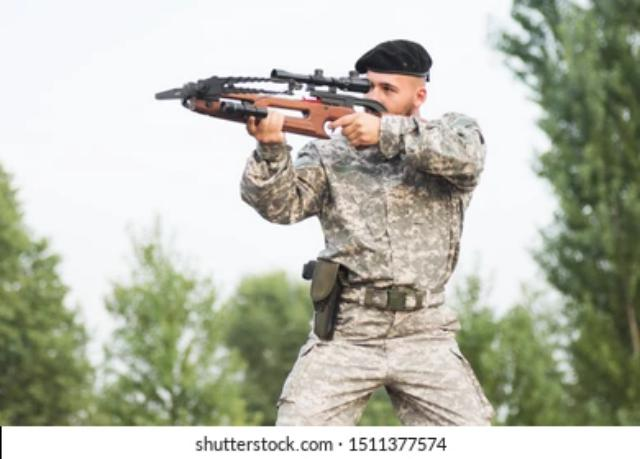other: (306, 39, 488, 428)
